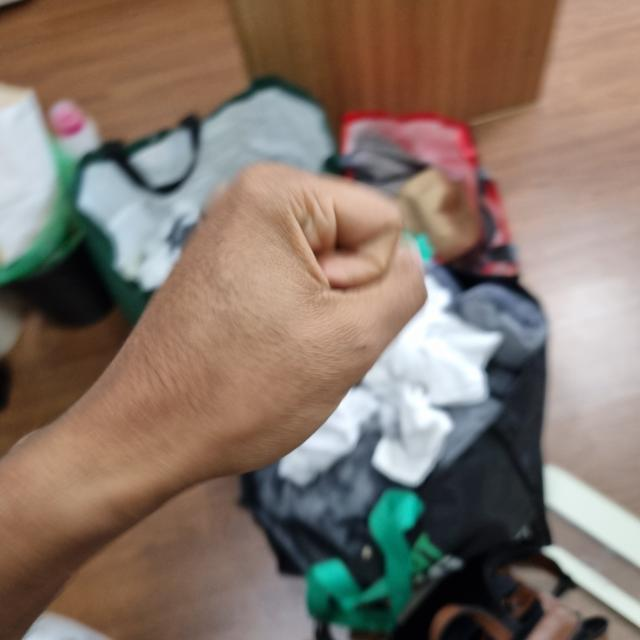Rock: (92, 162, 427, 476)
